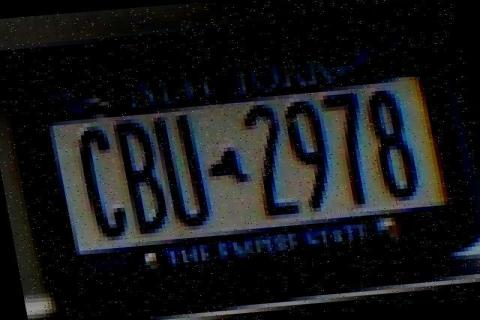LicensePlate: (0, 0, 480, 308)
